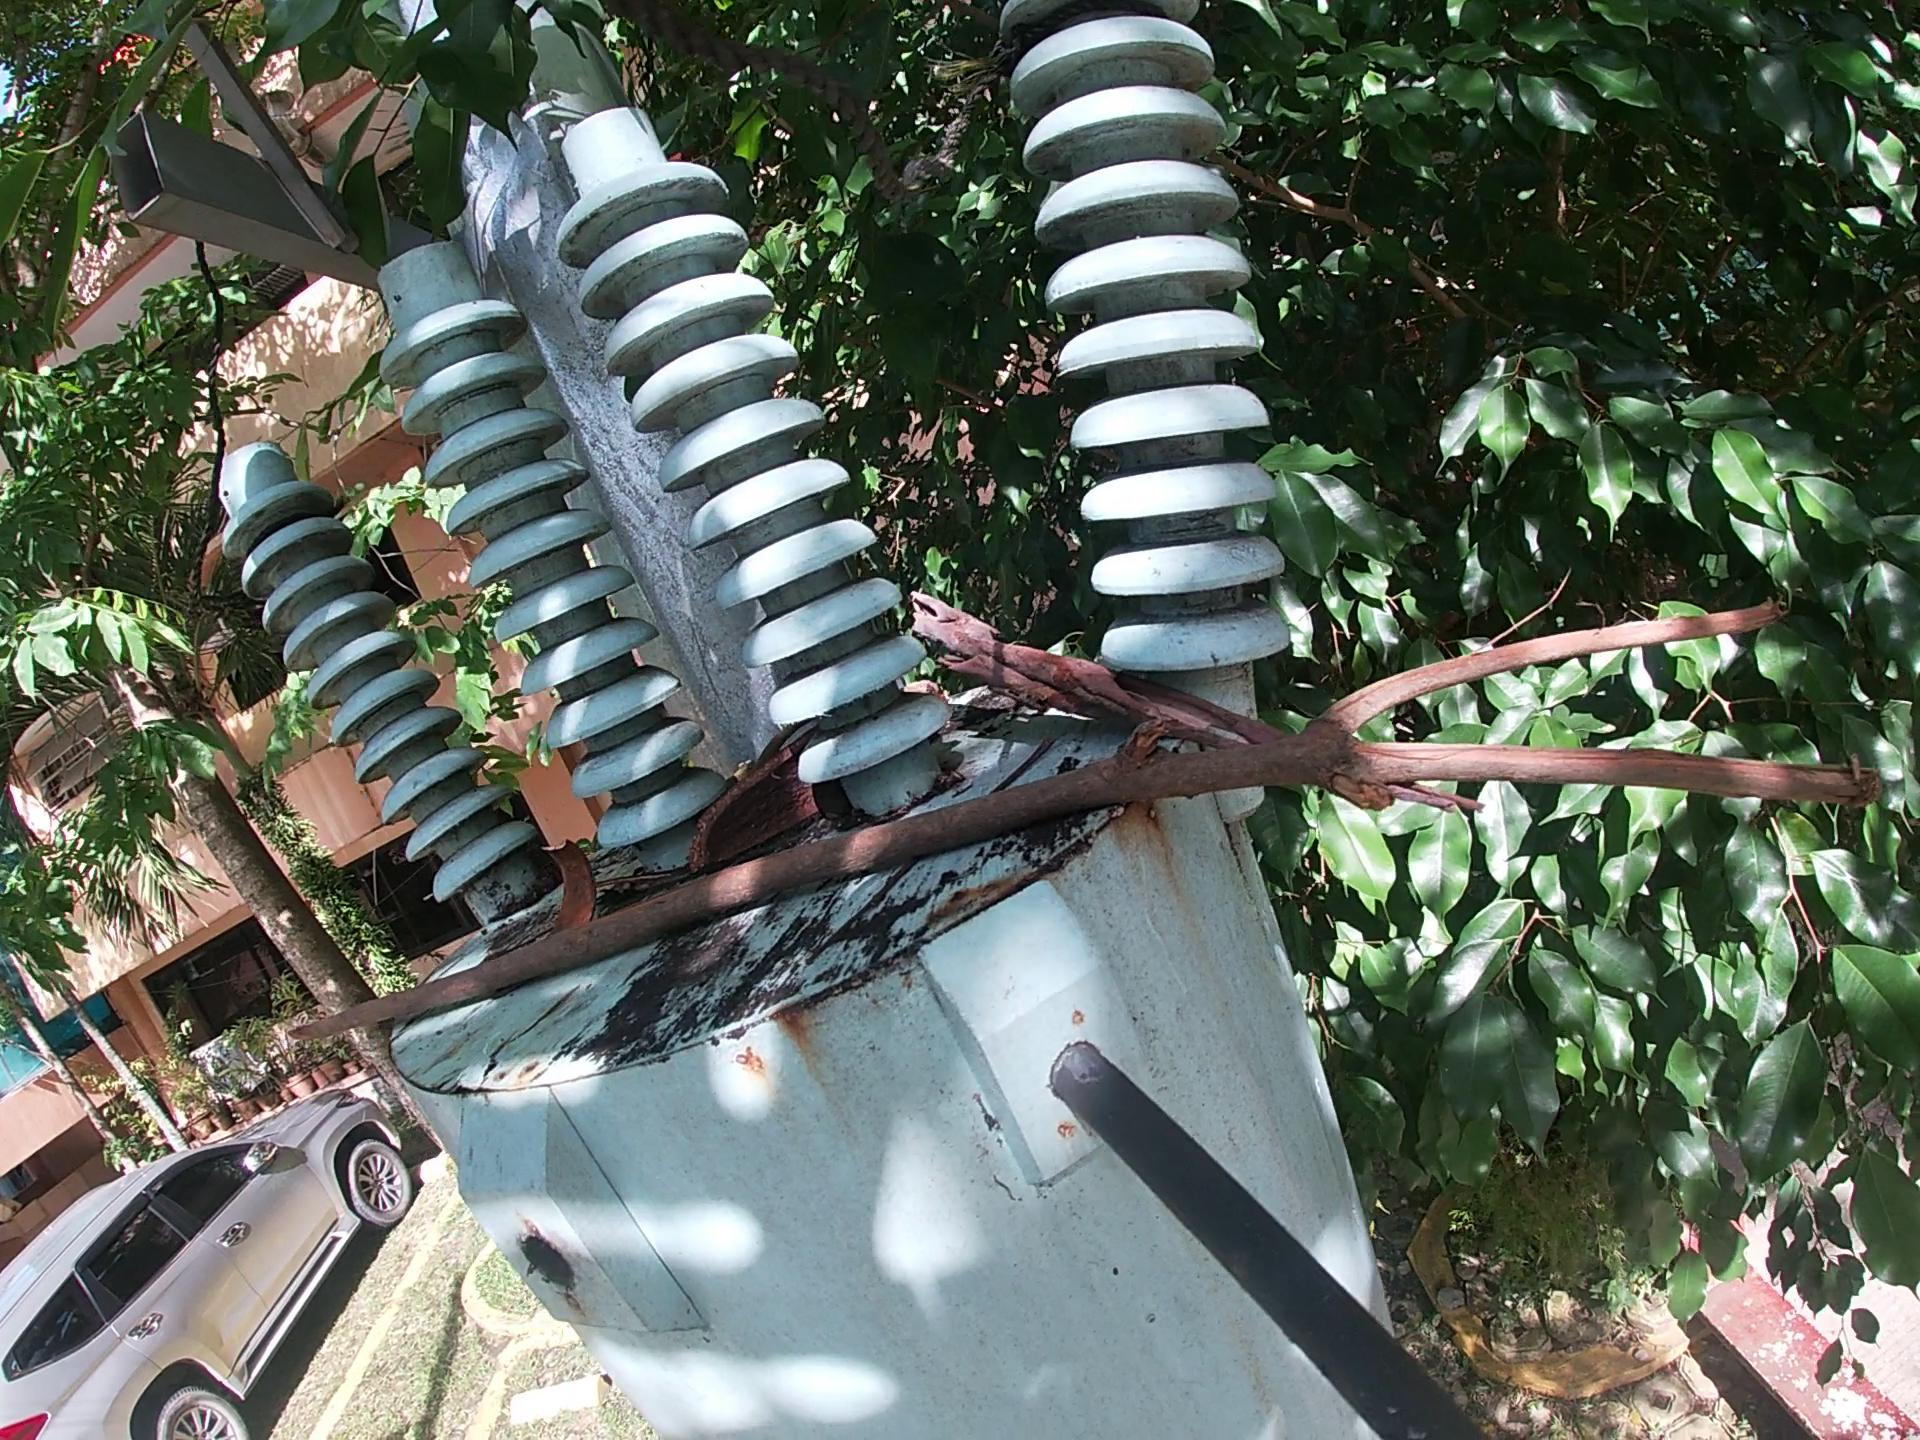mahogany fruit: (679, 718, 842, 885), (535, 835, 600, 936)
tree branch: (286, 591, 1888, 1056), (900, 578, 1492, 827)
